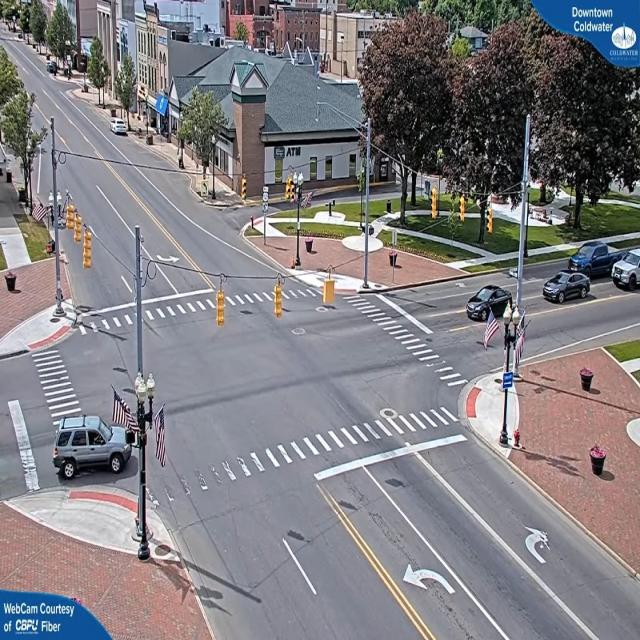car: (50, 412, 130, 482), (467, 284, 517, 322), (570, 242, 619, 278), (544, 270, 594, 305), (610, 251, 640, 291), (112, 120, 129, 136)
